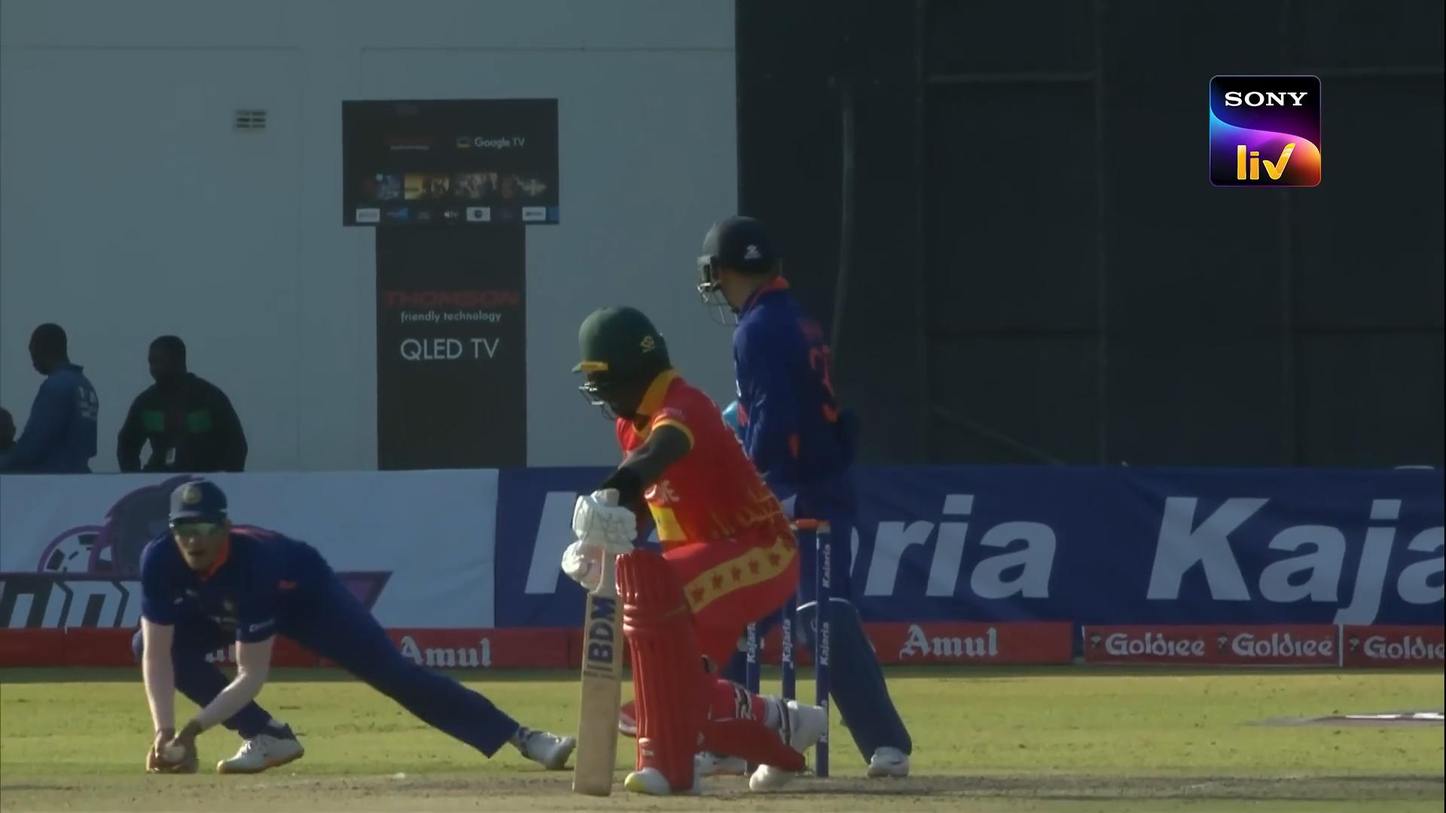batsman: (561, 303, 828, 797)
